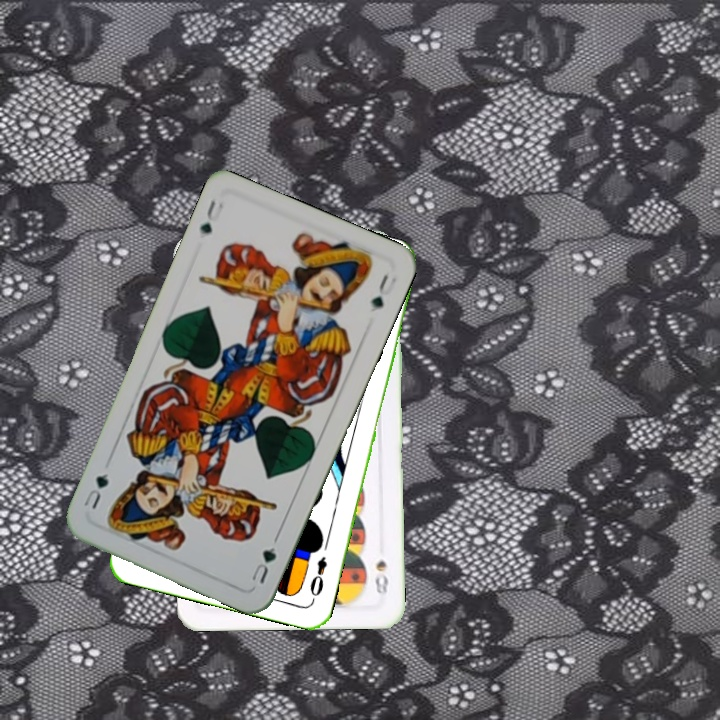EO: (305, 552, 330, 604)
GU: (247, 543, 279, 586), (195, 196, 226, 237)
S8: (370, 556, 391, 599)
